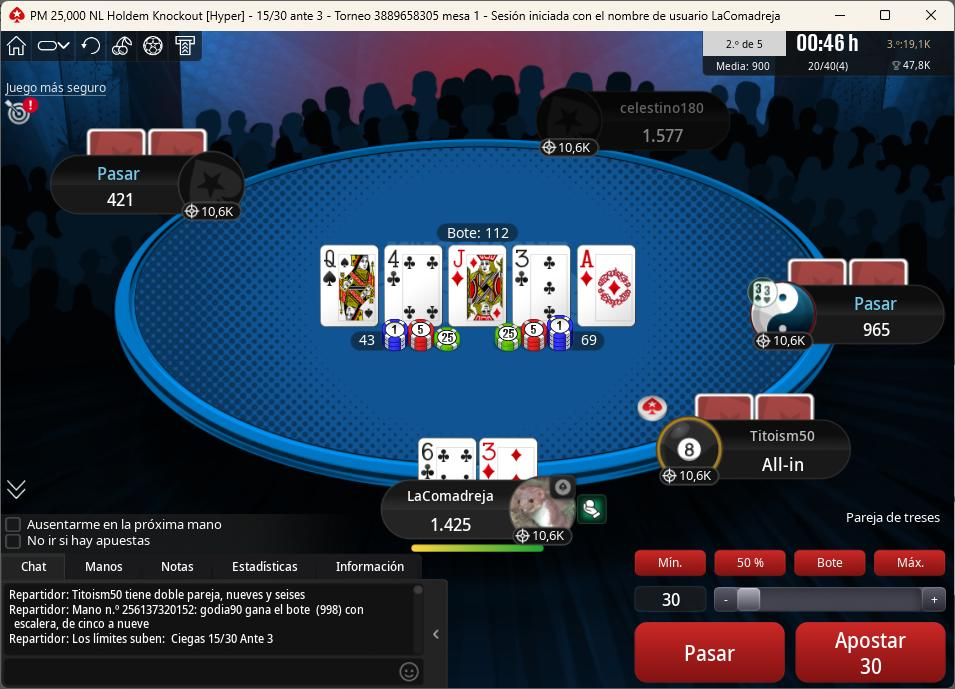ButtonCheck: (630, 619, 791, 687)
ButtonMaxRaise: (876, 550, 948, 577)
ButtonMinRaise: (633, 547, 711, 580)
ButtonPotRaise: (792, 545, 867, 578)
ButtonRaise: (792, 618, 947, 684)
Dealer: (634, 391, 672, 425)
HiddenCards: (692, 393, 822, 423), (84, 131, 212, 160), (786, 259, 913, 286)
Player: (745, 284, 951, 352), (650, 421, 851, 489), (49, 151, 247, 216), (546, 92, 734, 158)
PlayerChips: (756, 453, 815, 476), (632, 125, 693, 144), (857, 323, 900, 342), (99, 191, 139, 210)
Pot: (434, 223, 521, 243)
PrincipalCards: (419, 437, 546, 485)
PrincipalCards1: (420, 436, 477, 482)
PrincipalCards2: (479, 437, 540, 487)
PrincipalPlayer: (385, 475, 588, 551)
PrincipalPlayerChips: (422, 517, 482, 537)
ShowedCards: (318, 242, 641, 331)
ShowedCards1: (315, 242, 382, 329)
ShowedCards2: (383, 241, 445, 330)
ShowedCards3: (448, 240, 508, 326)
ShowedCards4: (510, 245, 573, 325)
ShowedCards5: (575, 243, 636, 331)
SmallBigBlind: (248, 5, 336, 26)
TablePot: (332, 312, 627, 366)
